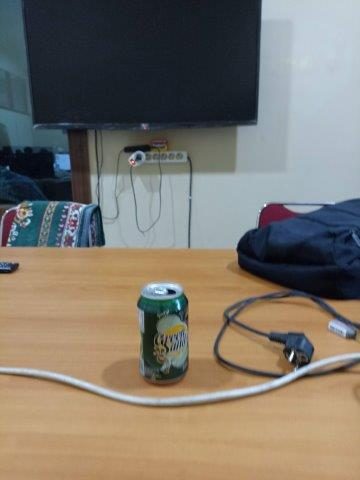kaleng: (138, 282, 189, 384)
